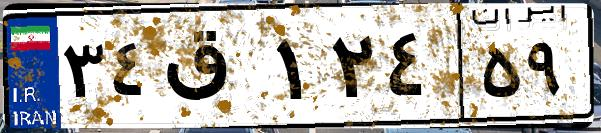1: (270, 28, 330, 110)
2: (330, 28, 385, 110)
3: (57, 26, 110, 100)
4: (385, 28, 445, 110), (110, 28, 158, 98)
5: (475, 38, 525, 113)
9: (525, 38, 570, 115)
ق: (158, 20, 270, 120)
